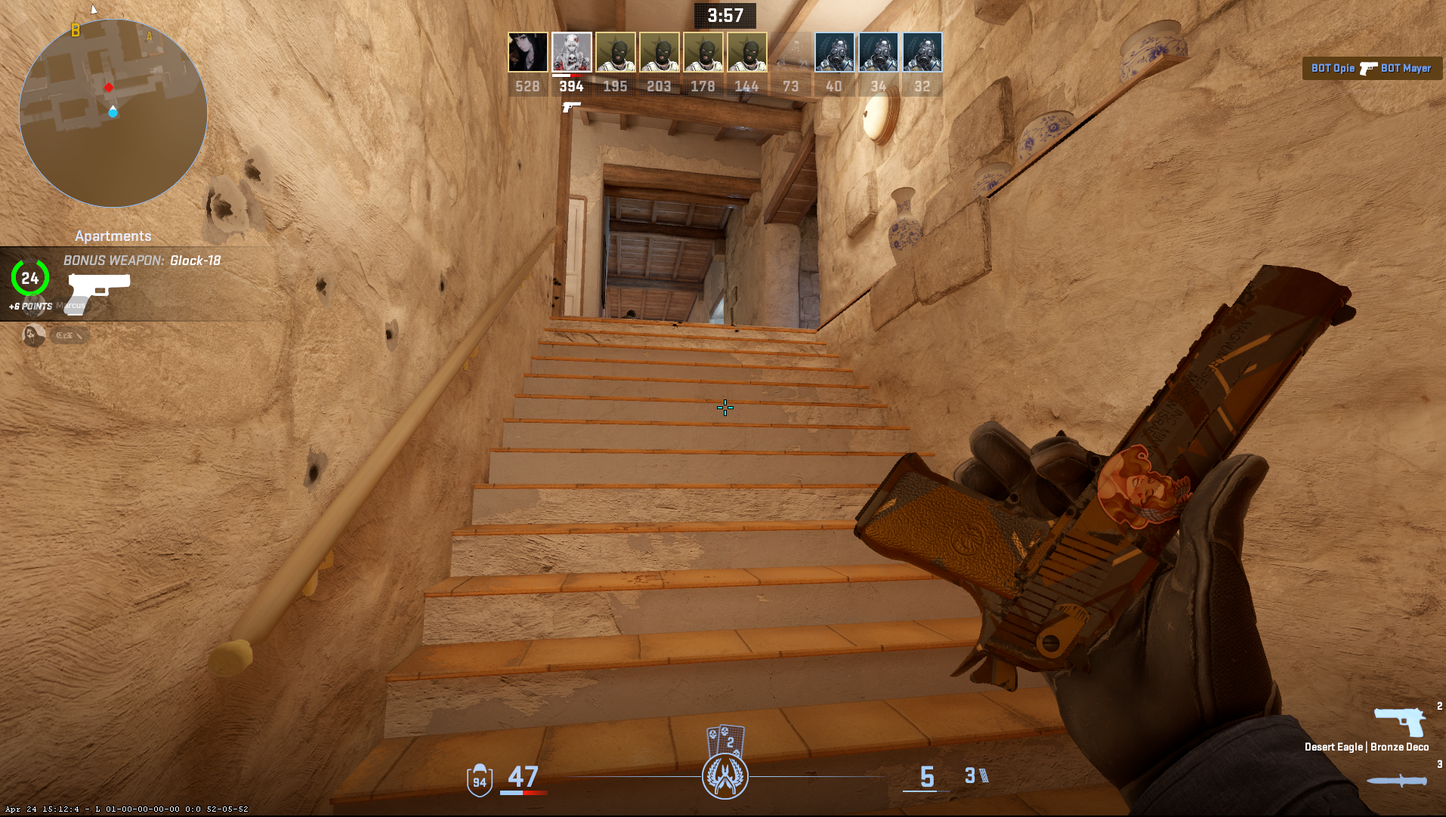T: (620, 309, 637, 319)
